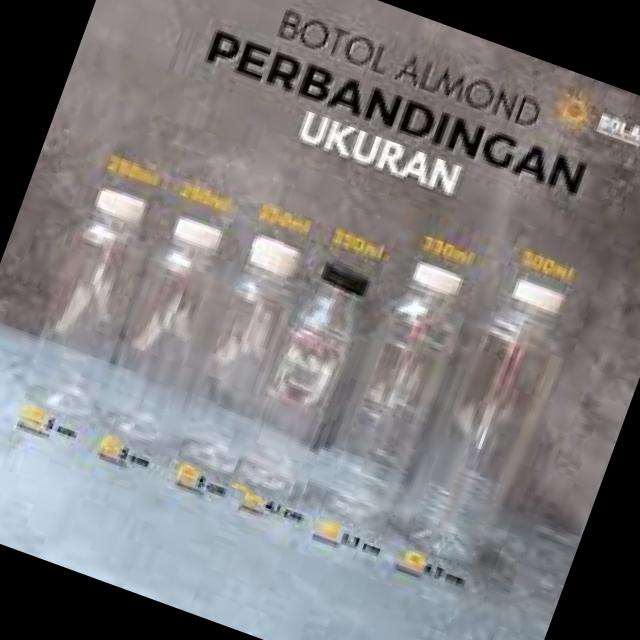plastic bottle: (144, 217, 334, 514), (229, 243, 396, 514)
